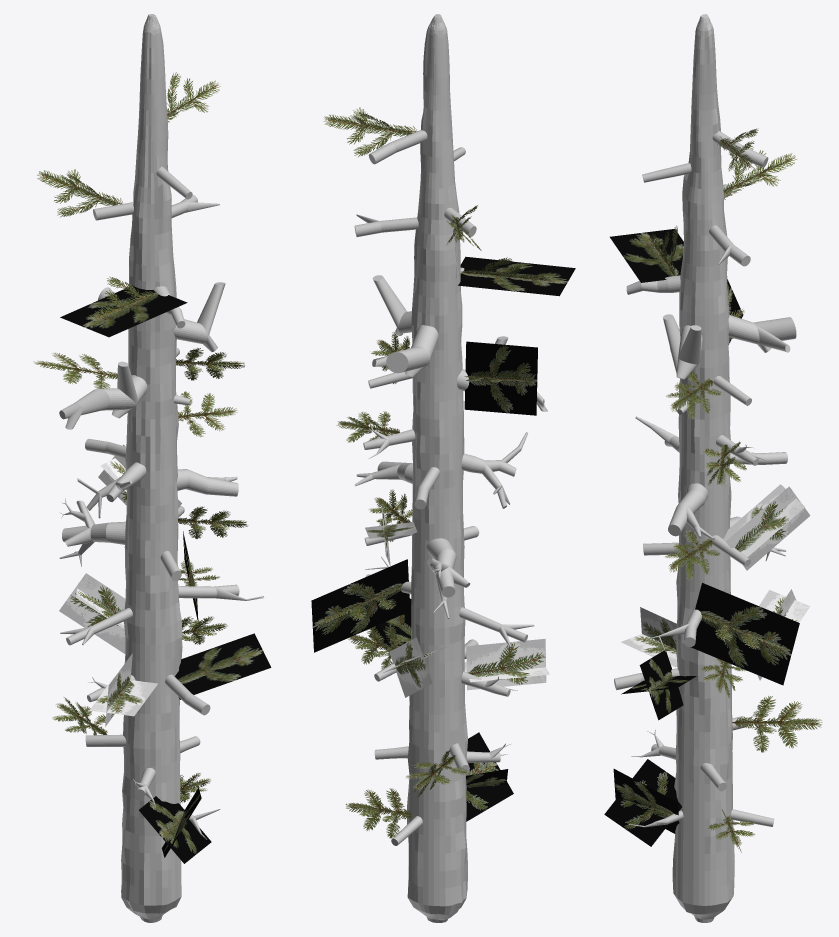
File: pinetree_level2.fbx
3 renders of one model, left to right at view 1: azimuth 30°, elevation 25°; view 2: azimuth 150°, elevation 25°; view 3: azimuth 270°, elevation 25°, orthographic.
Visible parts, largest first — view 1: PineTree_Level2; view 2: PineTree_Level2; view 3: PineTree_Level2.
Boxes of the visible parts, x1,y1,x2,y2 form: PineTree_Level2: (33,14,271,922); PineTree_Level2: (311,14,575,922); PineTree_Level2: (604,14,822,922).
Size of the model in its own units: 203 by 791 by 175.
